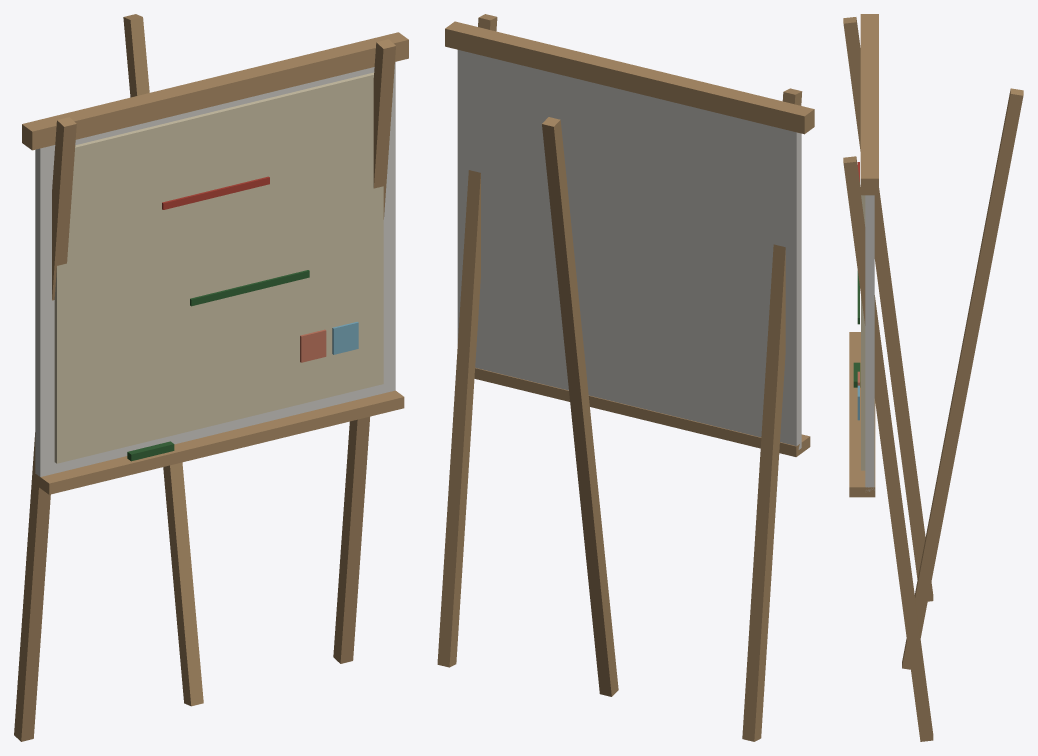
File: whiteboard-05.glb
The picture shows the model from 3 angles, left to right: view 1: azimuth 30°, elevation 25°; view 2: azimuth 150°, elevation 25°; view 3: azimuth 270°, elevation 25°; orthographic projection. The views are drawn at different scales.
Visible parts, largest first — view 1: whiteboard_05; view 2: whiteboard_05; view 3: whiteboard_05.
Part boxes in pixels (x1=…): whiteboard_05: x1=14, y1=14, x2=408, y2=741; whiteboard_05: x1=437, y1=14, x2=814, y2=741; whiteboard_05: x1=843, y1=14, x2=1023, y2=741.
Size of the model in its own units: 1.05 by 1.72 by 0.4848.
